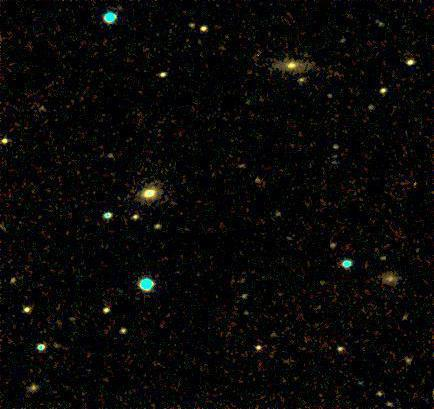star: (175, 15, 205, 45)
